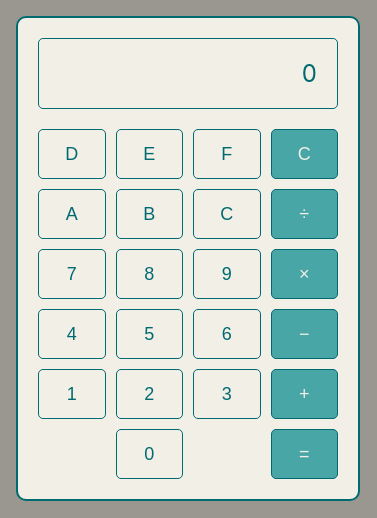
Test: Hexadecimal Calculator › should perform multiplication correctly
Click the button "3" at point(227, 394), box [193,369,261,419]
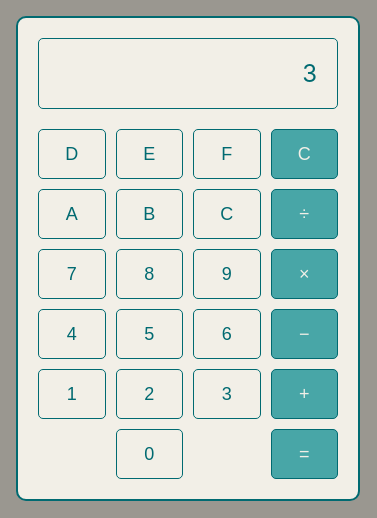
Click the button "×" at point(305, 274), box [271,249,339,299]
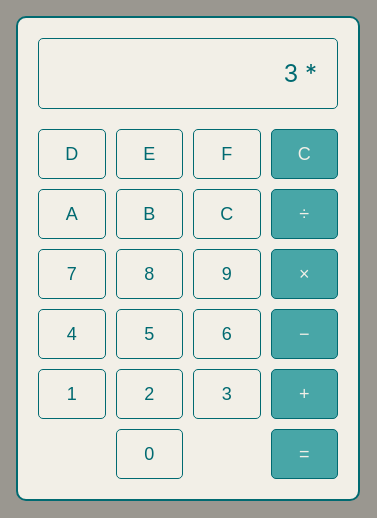
Click the button "5" at point(150, 334), box [116,309,184,359]
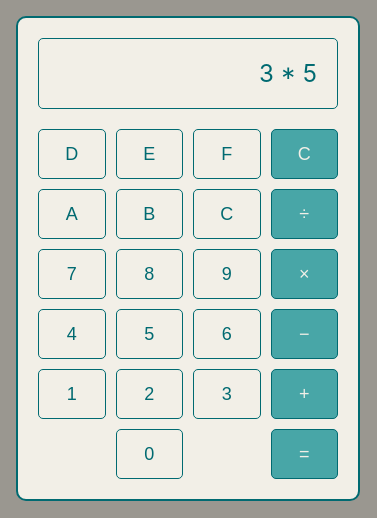
Click the button with class "equal" at point(305, 454), box [271,429,339,479]
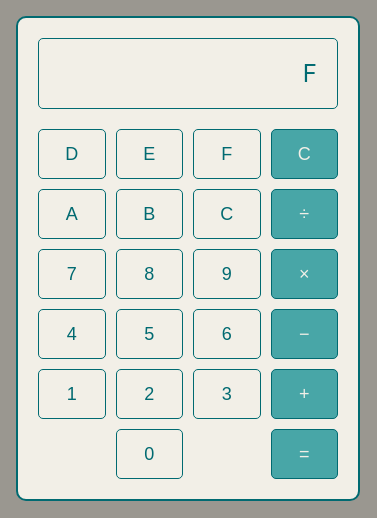
Expected: the text with class "display" reads "F", [303,59,317,88]
